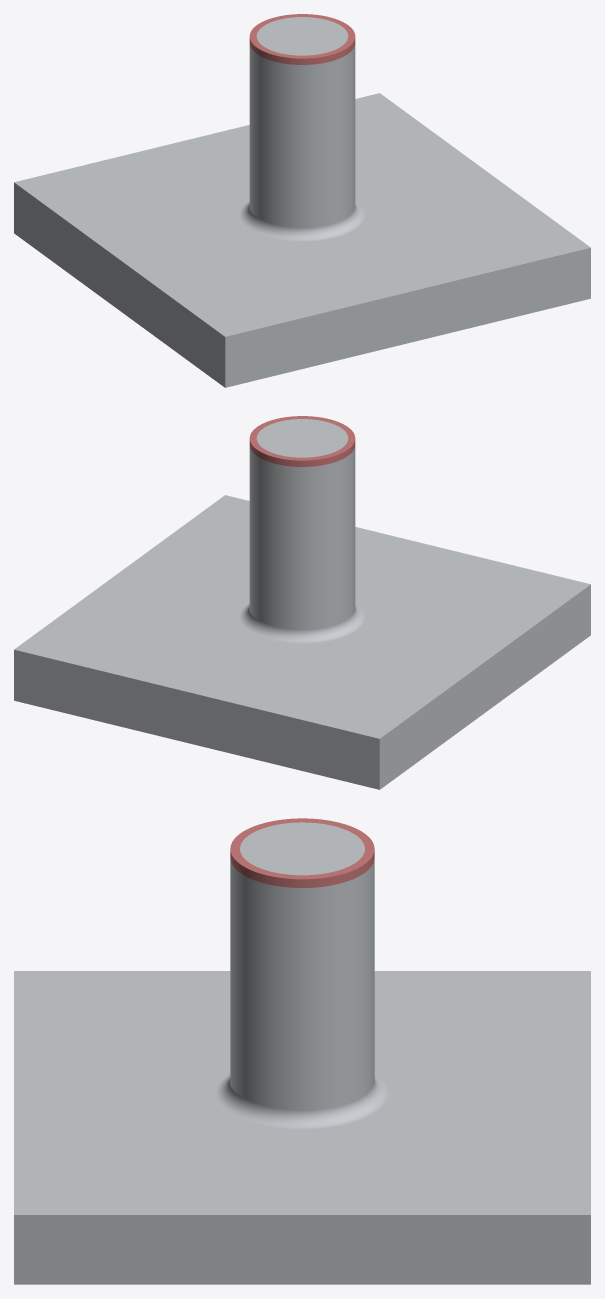
The model's file is step_03.glb.
3 views of the same model, one above another, from view 1: azimuth 30°, elevation 25°; view 2: azimuth 150°, elevation 25°; view 3: azimuth 270°, elevation 25° (orthographic). The views are drawn at different scales.
Parts seen in each view (by area): view 1: part__bottom pintle, removed__bottom pintle; view 2: part__bottom pintle, removed__bottom pintle; view 3: part__bottom pintle, removed__bottom pintle.
Part boxes in pixels (x1,y1,x2,y2): part__bottom pintle: (14,17,590,387); removed__bottom pintle: (249,14,355,64); part__bottom pintle: (14,419,590,789); removed__bottom pintle: (249,416,355,466); part__bottom pintle: (14,822,590,1284); removed__bottom pintle: (230,818,374,887).
Bounding box in the file's own units: 600 × 360 × 600.
